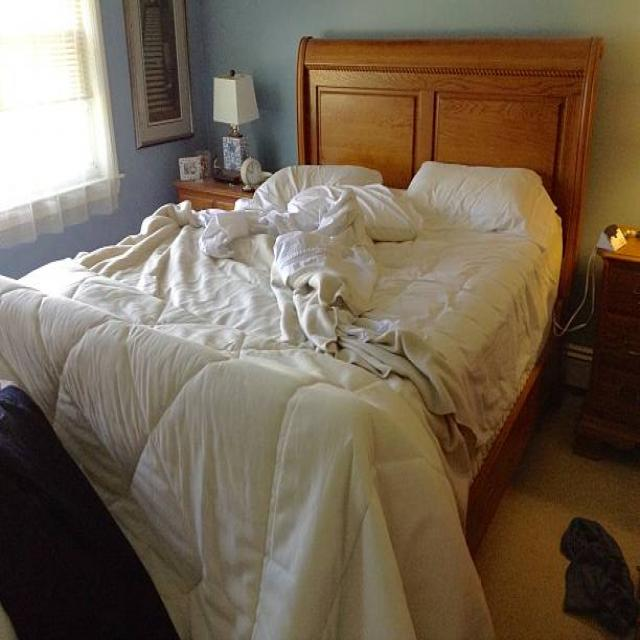bed: (10, 149, 570, 525)
